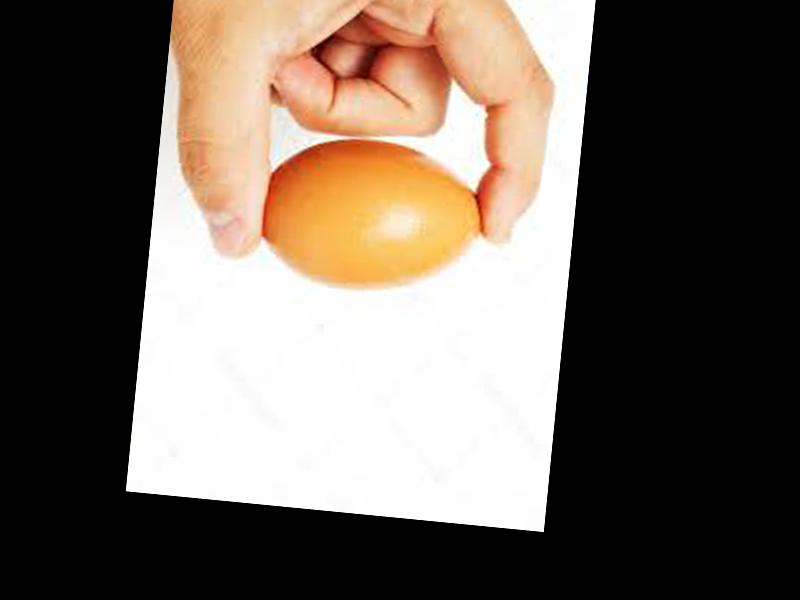Eggs: (256, 129, 493, 302)
